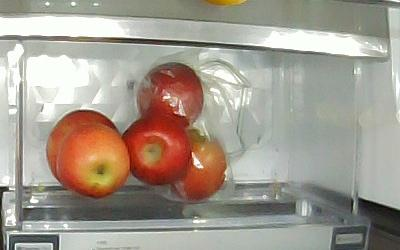apple: (56, 124, 131, 200), (47, 109, 121, 184), (123, 116, 192, 184)
apple_vinyl: (136, 61, 203, 125), (167, 134, 227, 203)
